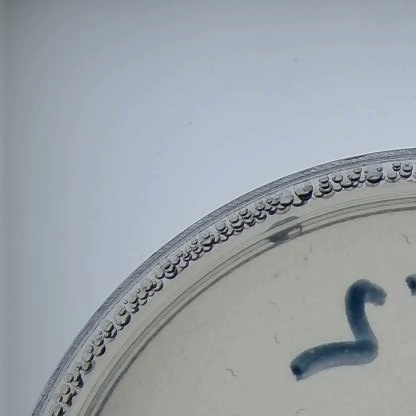worm: (297, 238, 316, 266), (397, 232, 412, 251), (268, 331, 280, 351), (294, 402, 310, 416), (224, 366, 238, 381), (264, 296, 277, 312)
